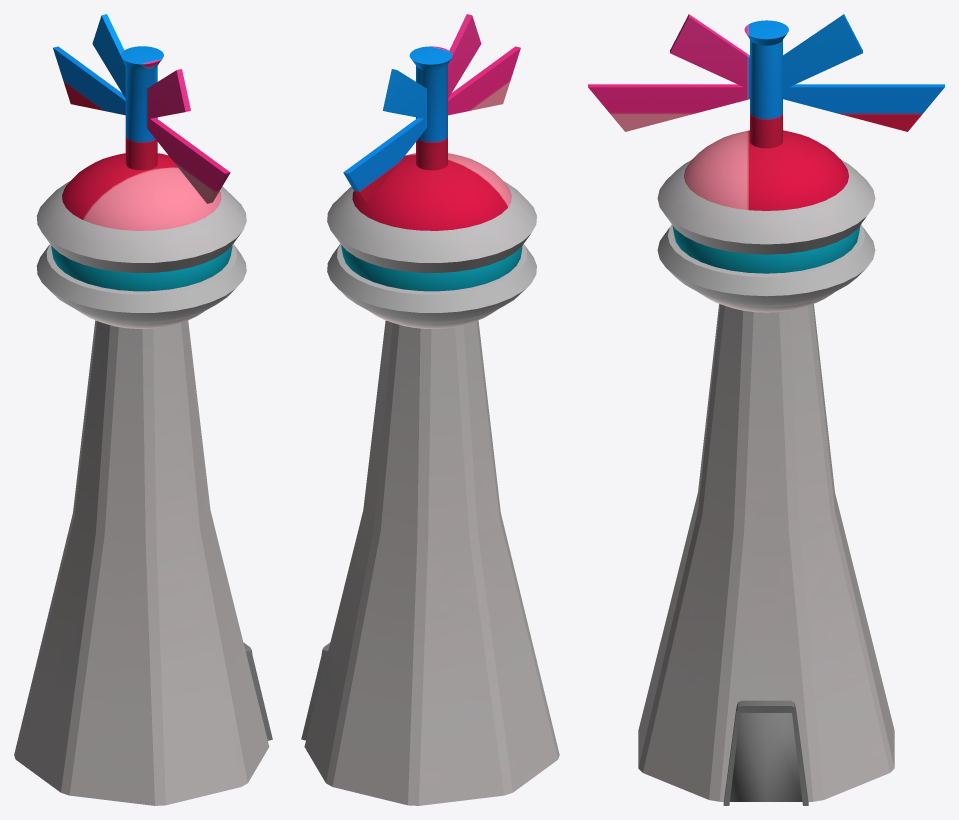
Rendered from torre.fbx.
3 views of the same model, side by side, from view 1: azimuth 30°, elevation 25°; view 2: azimuth 150°, elevation 25°; view 3: azimuth 270°, elevation 25° (orthographic). The views are drawn at different scales.
Visible parts, largest first — view 1: Cube.009, Cube.011; view 2: Cube.009, Cube.011; view 3: Cube.009, Cube.011, Cube.005.
Part boxes in pixels (<box>): Cube.009: <box>14,320,269,805</box>; Cube.011: <box>36,14,272,740</box>; Cube.009: <box>304,320,559,805</box>; Cube.011: <box>301,14,536,740</box>; Cube.009: <box>638,304,894,801</box>; Cube.011: <box>588,14,944,805</box>; Cube.005: <box>730,713,802,801</box>.
Size of the model in its own units: 805 by 2550 by 1123.
Materials: 1 (1 with a texture image).
